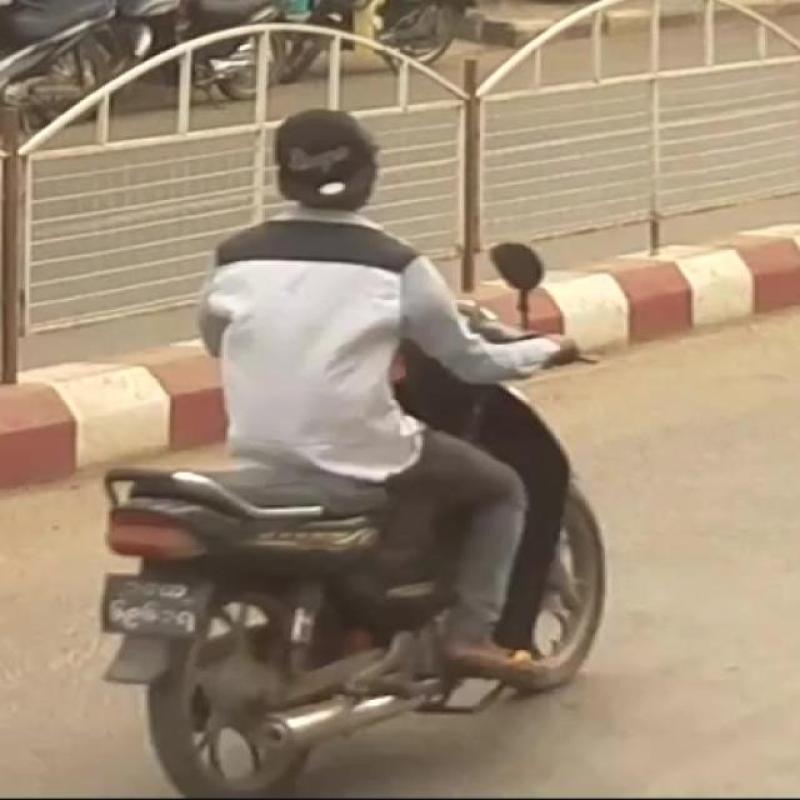nohelmet: (244, 100, 427, 240)
